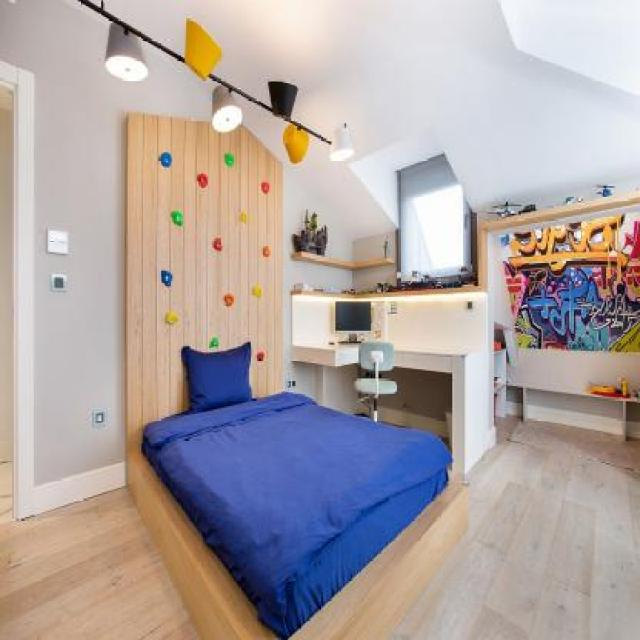floor: (389, 413, 640, 640), (0, 461, 201, 640)
